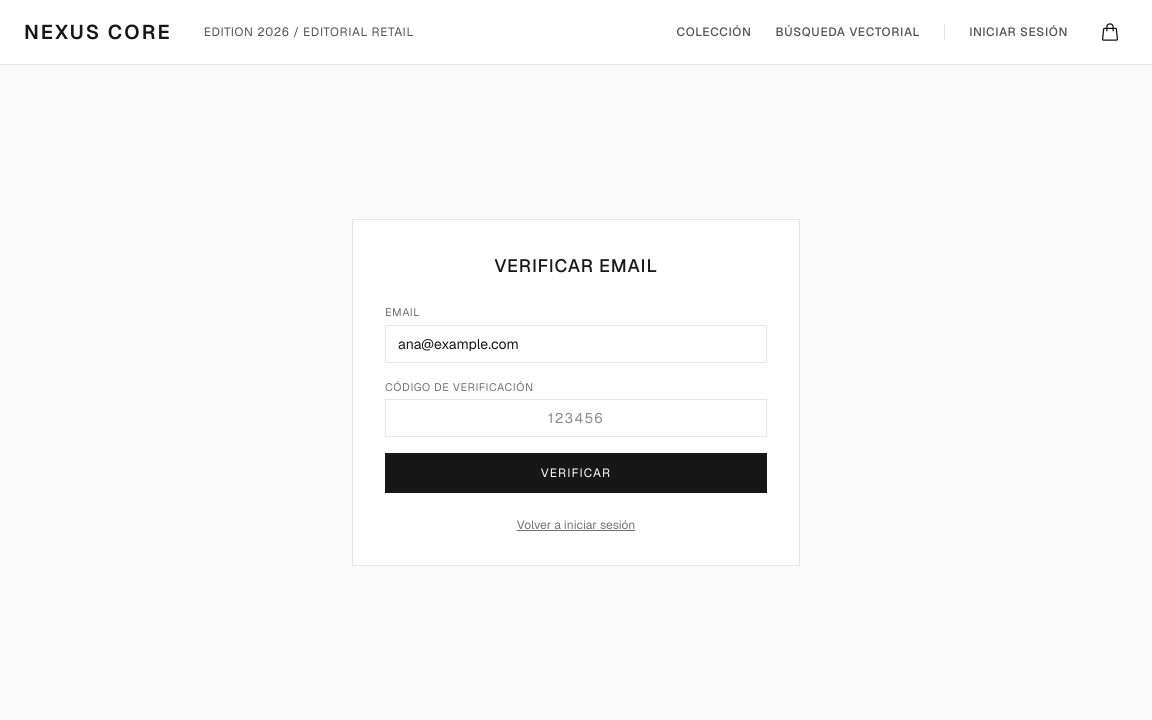
Test case: Puntos de entrada del código de verificación › /verify-email — reglas de estilo y errores › F7: debe traducir el error del backend (regla #9) y no filtrar el técnico
Expected: the button "Verificar" is shown, [385, 453, 767, 493]
In the field labelled "Código de verificación": point(576, 418) [385, 399, 767, 437], type "000000"
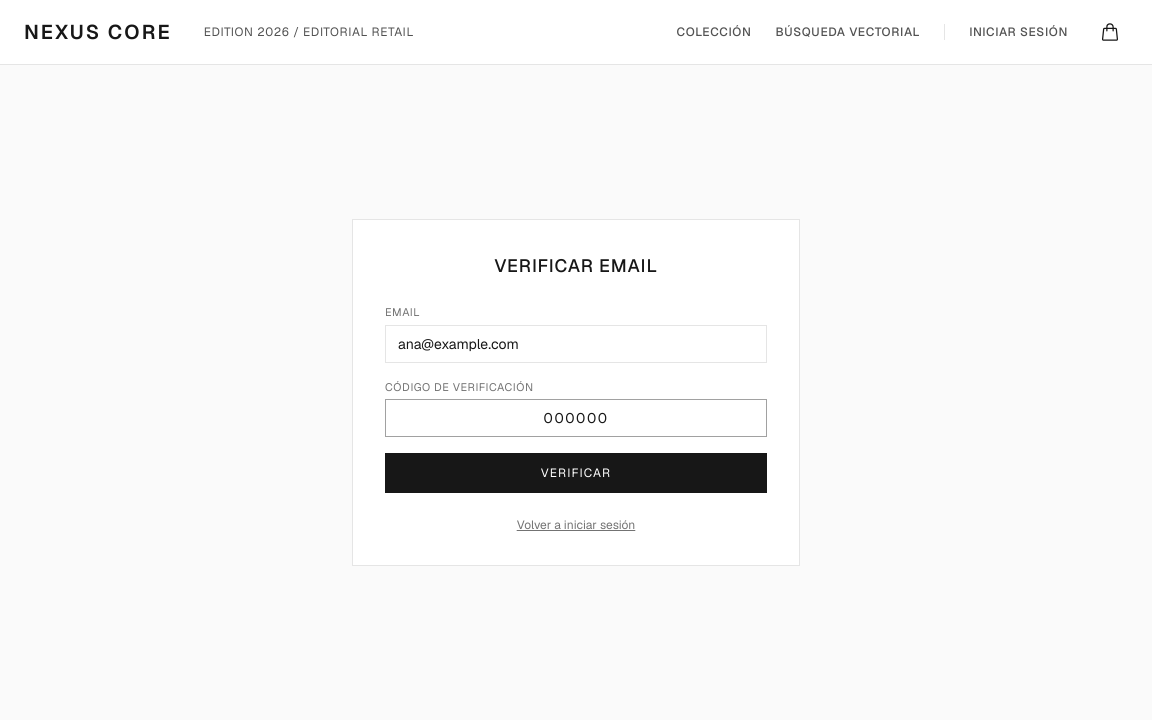
Click the button "Verificar": point(576, 473) [385, 453, 767, 493]
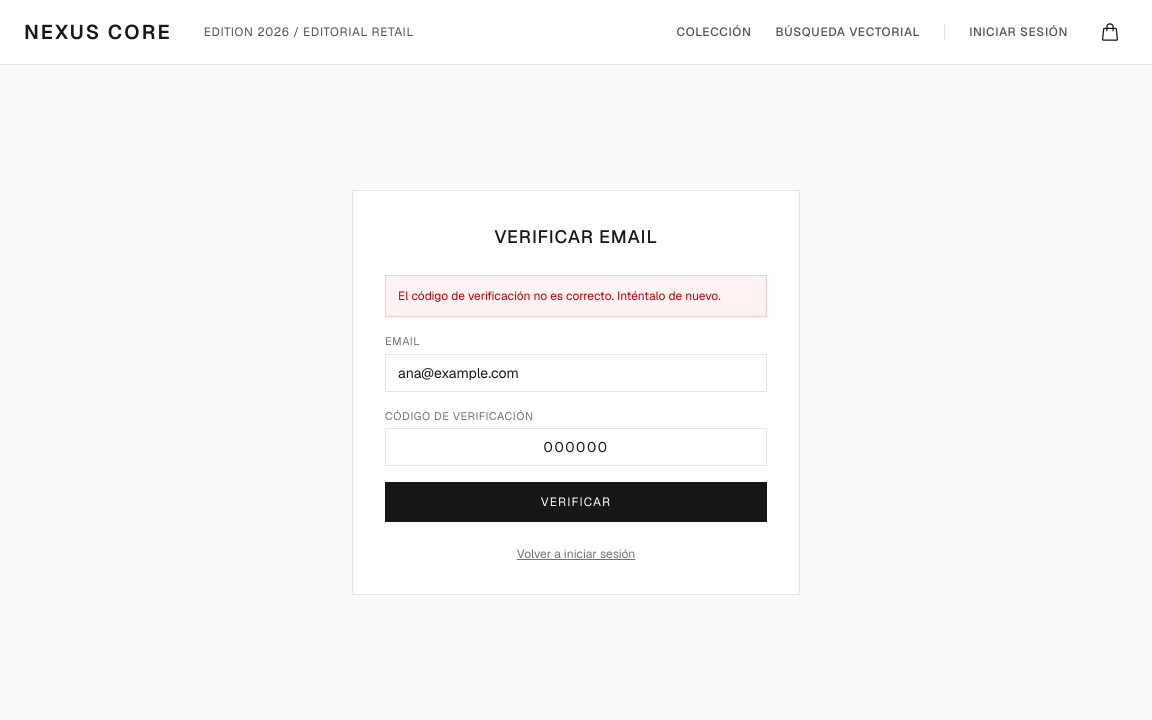
Result: the text "El código de verificación no es correcto. Inténtalo de nuevo." is shown at [385, 275, 767, 317]
